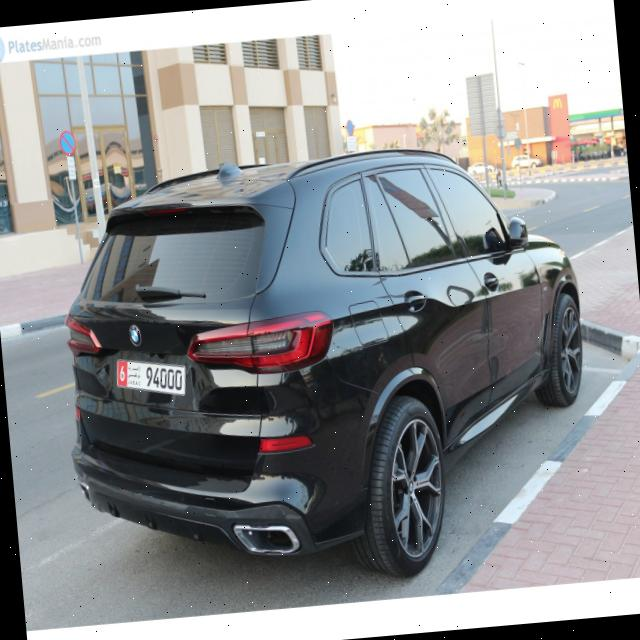License-plate: (112, 347, 190, 407)
